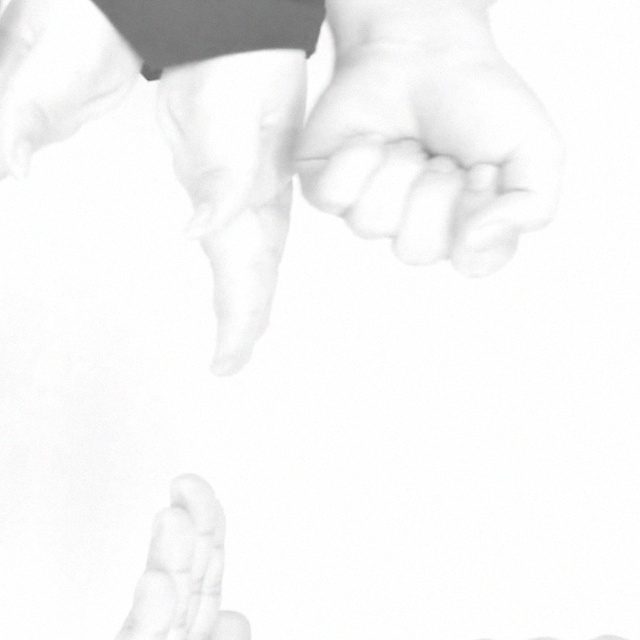Rock: (332, 0, 640, 59), (0, 0, 80, 174)
